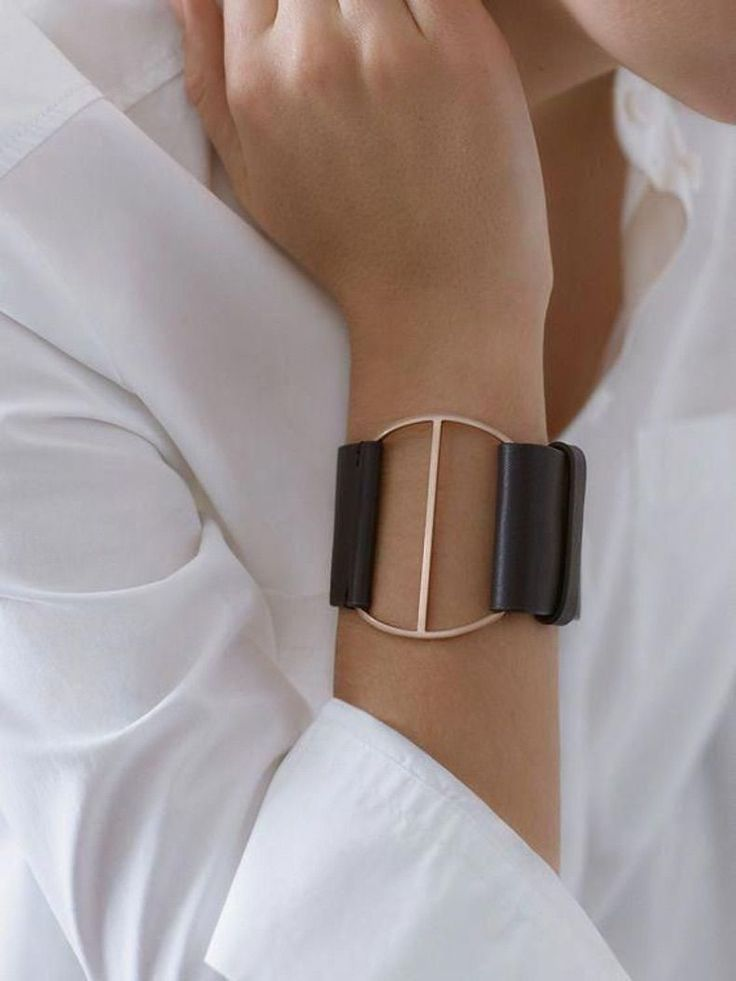cuero: (329, 429, 587, 619)
